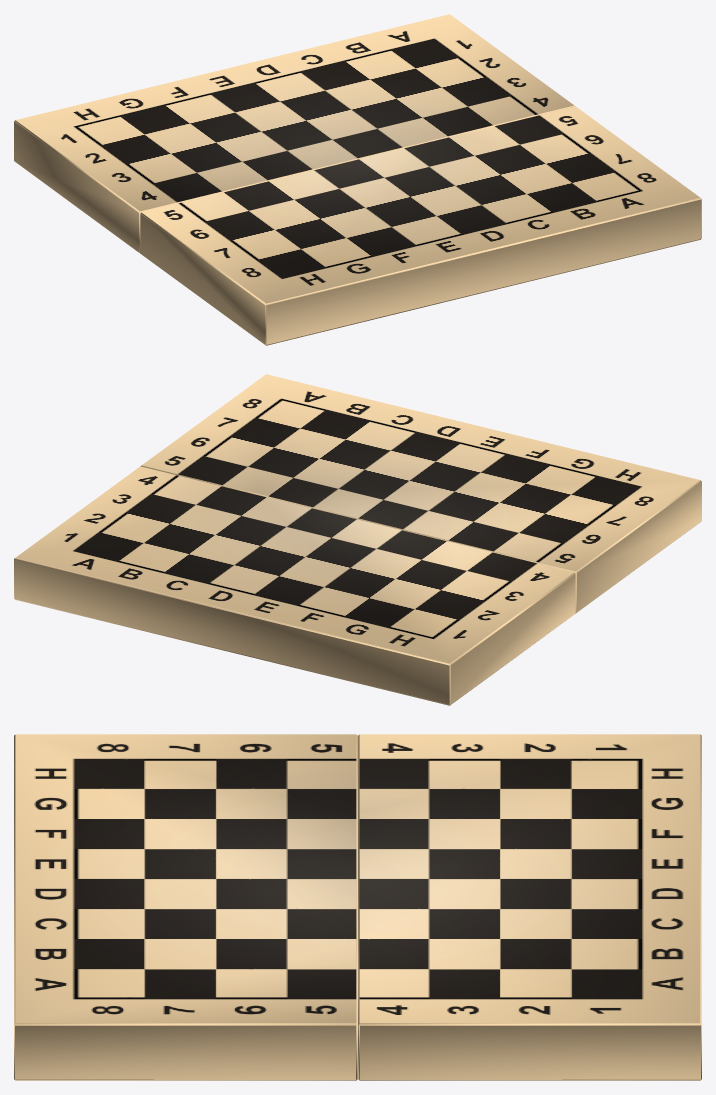
The model's file is xadrez_tabuleiro_dobravel_pacote.glb.
3 views of the same model, one above another, from view 1: azimuth 30°, elevation 25°; view 2: azimuth 150°, elevation 25°; view 3: azimuth 270°, elevation 25° (orthographic). The views are drawn at different scales.
Parts seen in each view (by area): view 1: xadrez_tabuleiro_dobravel_pacote, metade_dobravel; view 2: metade_dobravel, xadrez_tabuleiro_dobravel_pacote; view 3: metade_dobravel, xadrez_tabuleiro_dobravel_pacote.
Boxes of the visible parts, x1=… form: xadrez_tabuleiro_dobravel_pacote: x1=140, y1=106, x2=701, y2=345; metade_dobravel: x1=14, y1=14, x2=575, y2=253; metade_dobravel: x1=14, y1=466, x2=575, y2=705; xadrez_tabuleiro_dobravel_pacote: x1=140, y1=374, x2=701, y2=613; metade_dobravel: x1=358, y1=734, x2=701, y2=1080; xadrez_tabuleiro_dobravel_pacote: x1=14, y1=734, x2=357, y2=1080.
Size of the model in its own units: 0.4813 by 0.0456 by 0.4813.
Materials: 2 (2 with a texture image).
